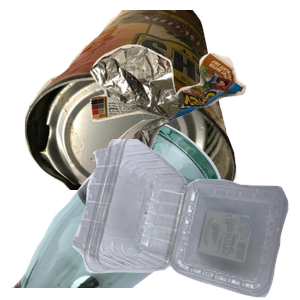glass: (10, 120, 224, 300)
metal: (22, 10, 251, 190)
plastic: (70, 139, 300, 300)
trash: (88, 42, 300, 219)
